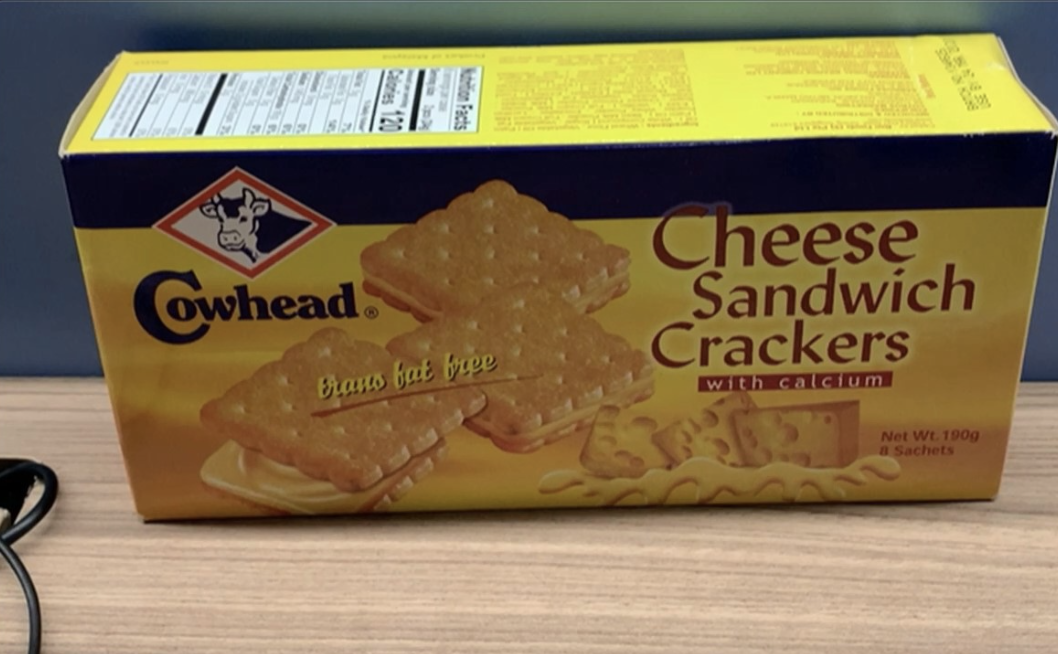crackers_100g-199g: (137, 168, 992, 486)
